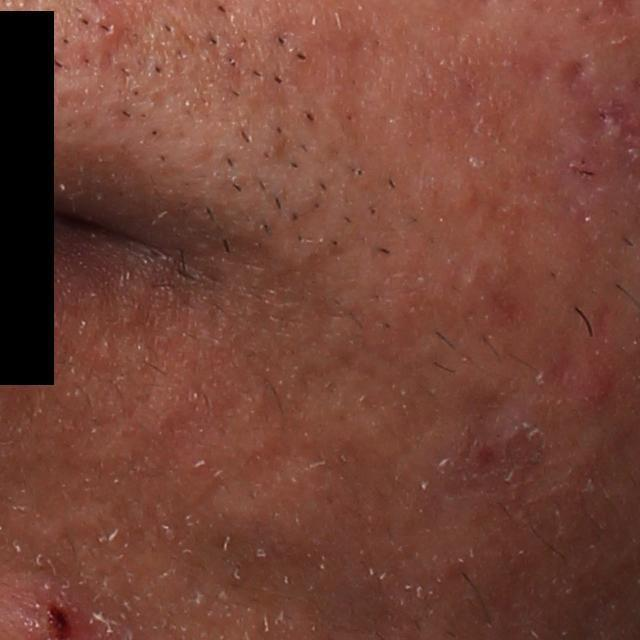atrophic_scar: (549, 52, 584, 91)
papule: (565, 347, 623, 417)
